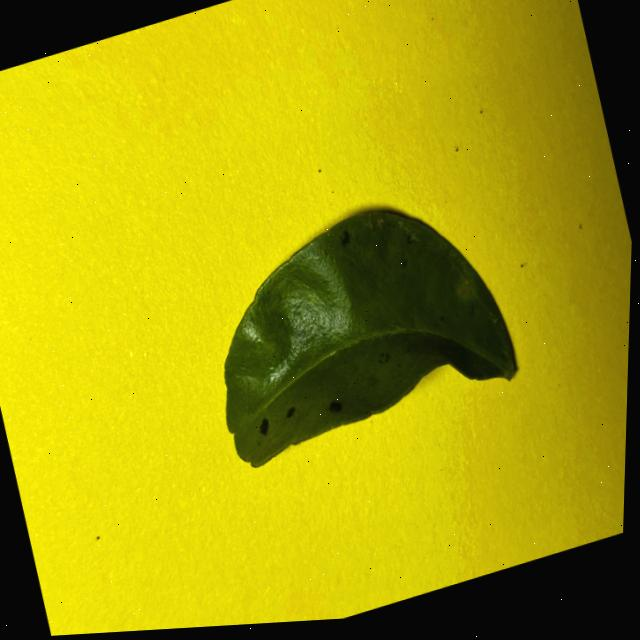sooty_mold: (224, 211, 515, 465)
